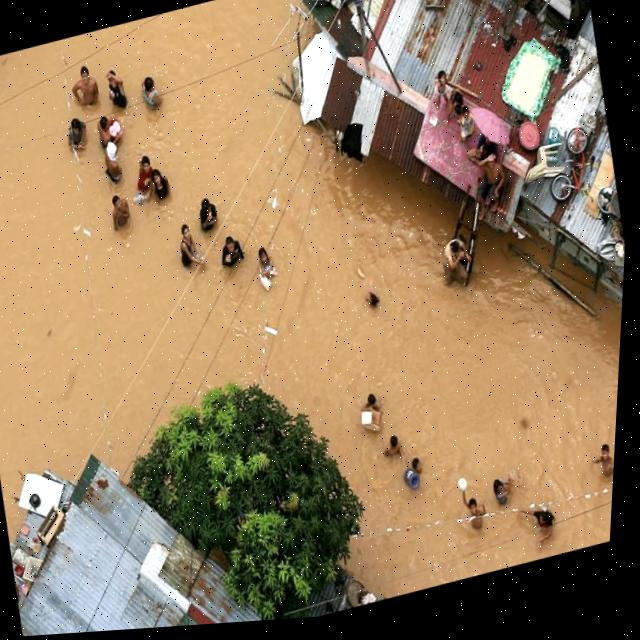civilian: (459, 150, 515, 230), (456, 484, 497, 543), (435, 236, 476, 290), (63, 65, 107, 115), (103, 188, 141, 238), (485, 468, 519, 519), (173, 218, 204, 273), (97, 142, 127, 196), (136, 68, 168, 118), (60, 111, 94, 157), (253, 239, 285, 287), (425, 68, 456, 117), (104, 64, 135, 113), (530, 499, 567, 540), (128, 144, 159, 191), (450, 101, 481, 147), (195, 193, 226, 235), (347, 280, 385, 314), (407, 453, 438, 492), (93, 111, 123, 150), (218, 230, 247, 270), (355, 387, 388, 420), (593, 433, 615, 482), (149, 165, 176, 203), (380, 435, 408, 460)
